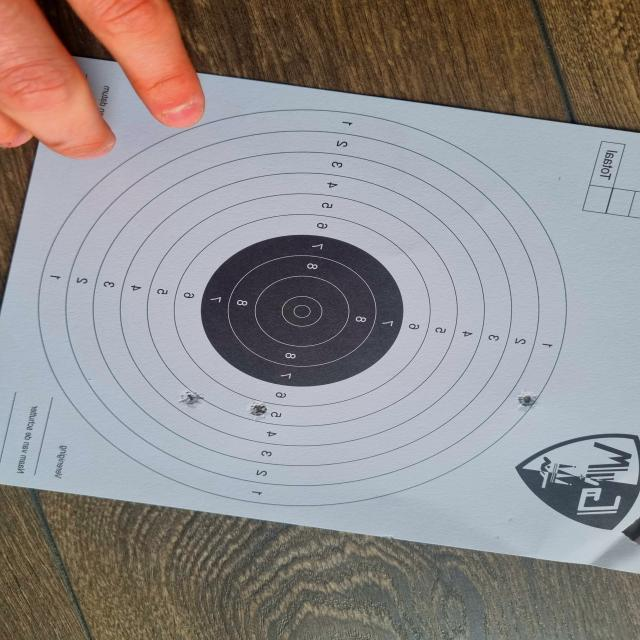1: (515, 392, 541, 409)
5: (178, 390, 204, 405), (248, 402, 267, 416)
Target: (28, 108, 573, 508)
black_contour: (202, 236, 405, 388)
